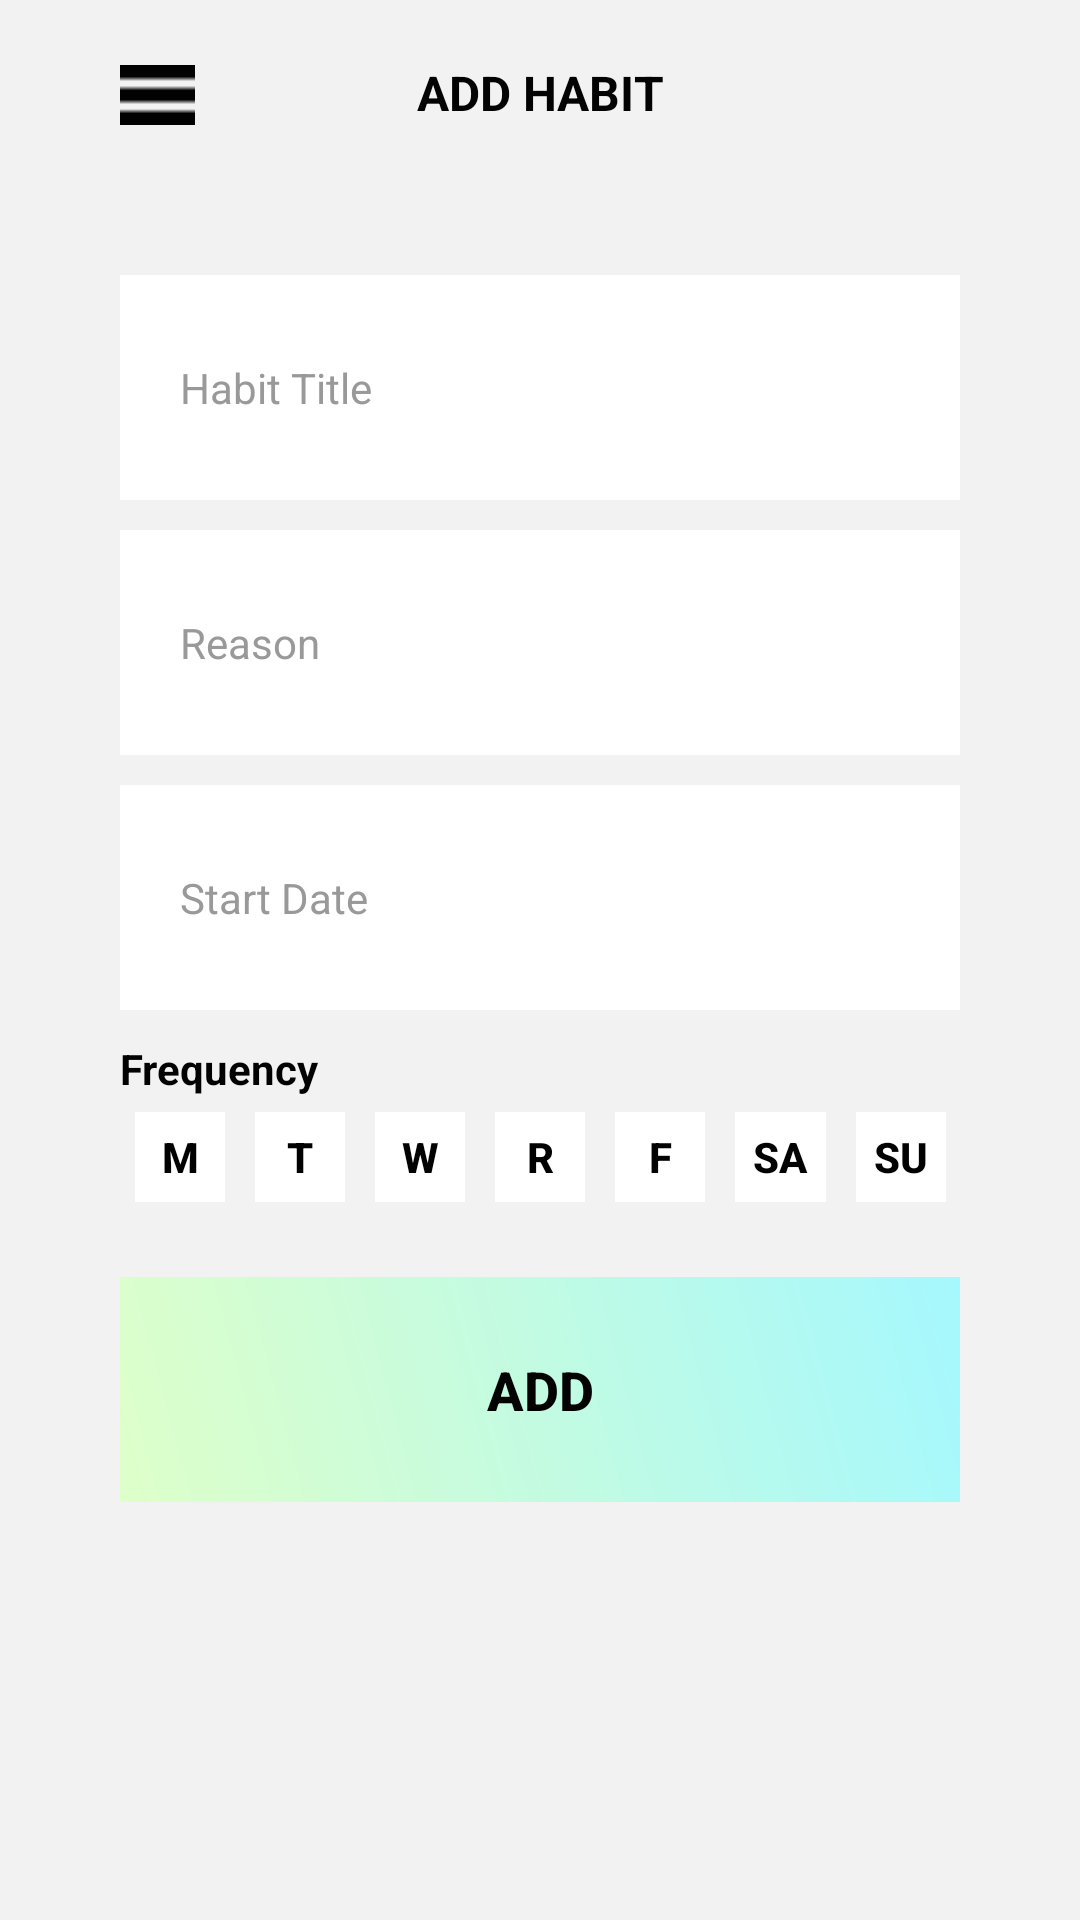

Named icons in this screenshot (1080 × 1920) and their bounding boxes, (x1, y1, x2, y2):
menu: (120, 65, 195, 125)
